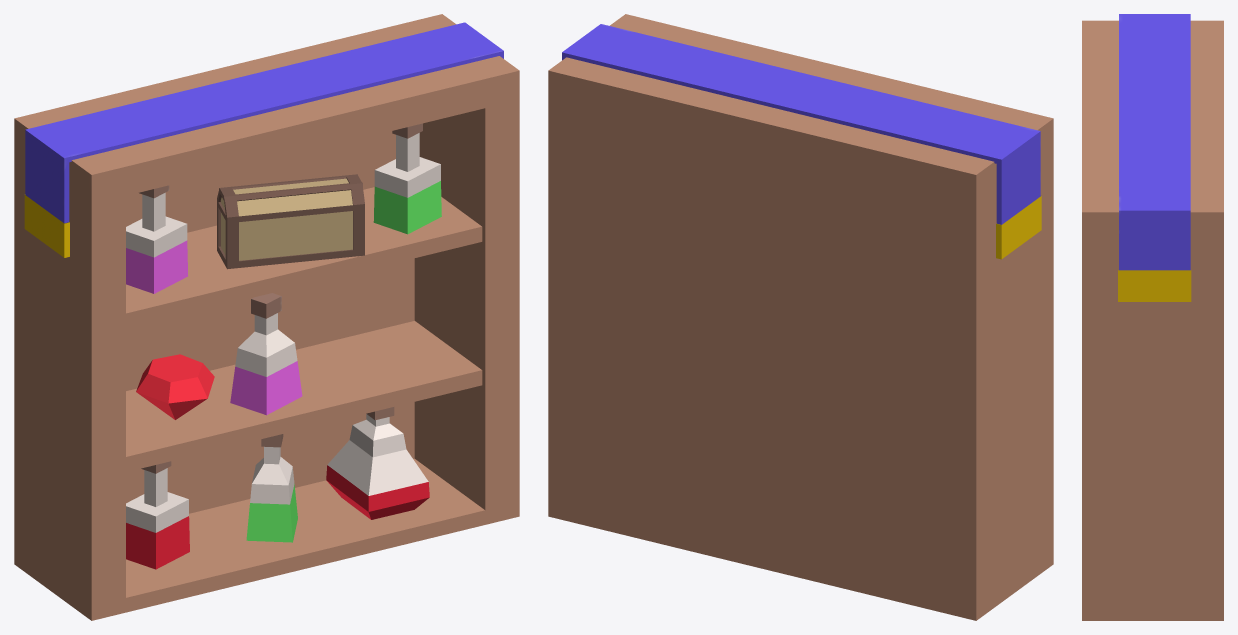
Rendered from Drawer_Potion.fbx.
The picture shows the model from 3 angles, left to right: view 1: azimuth 30°, elevation 25°; view 2: azimuth 150°, elevation 25°; view 3: azimuth 270°, elevation 25°; orthographic projection. The views are drawn at different scales.
Parts seen in each view (by area): view 1: Drawer_Potion_Geo; view 2: Drawer_Potion_Geo; view 3: Drawer_Potion_Geo.
Boxes of the visible parts, x1,y1,x2,y2 form: Drawer_Potion_Geo: [14, 14, 519, 620]; Drawer_Potion_Geo: [548, 14, 1053, 620]; Drawer_Potion_Geo: [1082, 14, 1223, 620].
Size of the model in its own units: 63.34 by 61.82 by 19.27.
